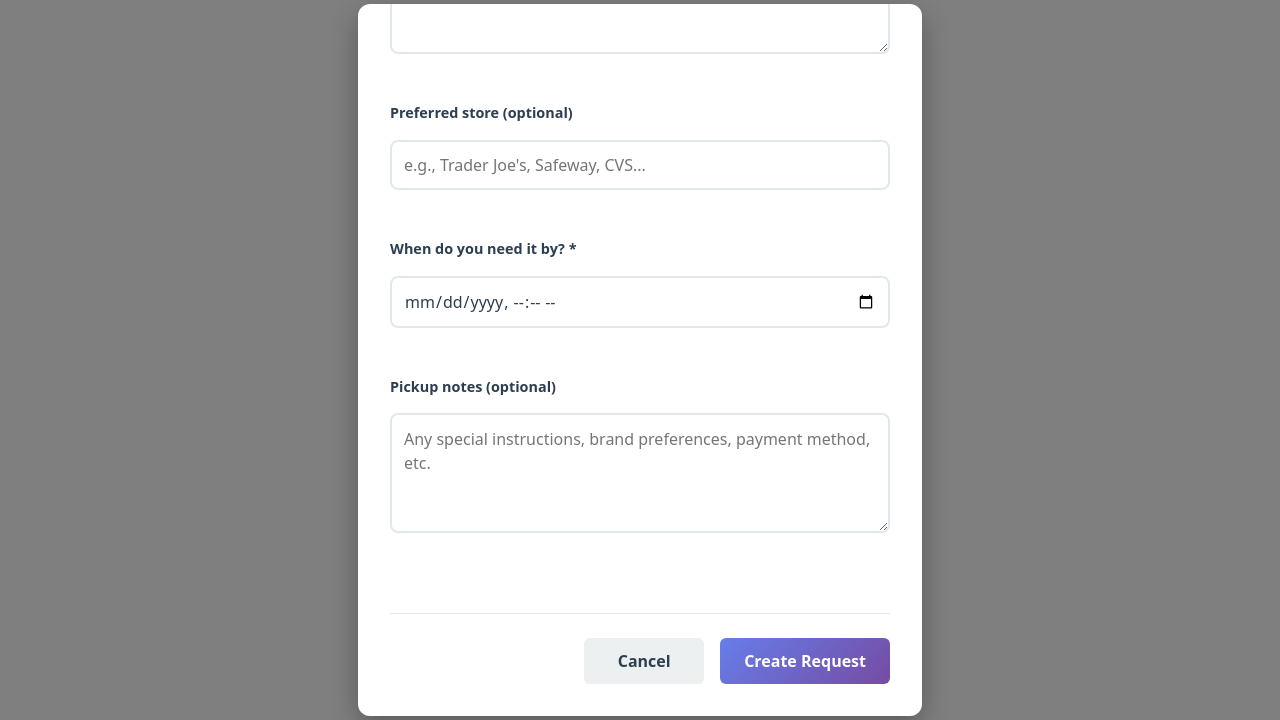
Test: CreateRequestForm › should show validation errors for required fields
(page scrolled)
Click the button "Create Request".
click(805, 661)  # box [720,638,890,684]
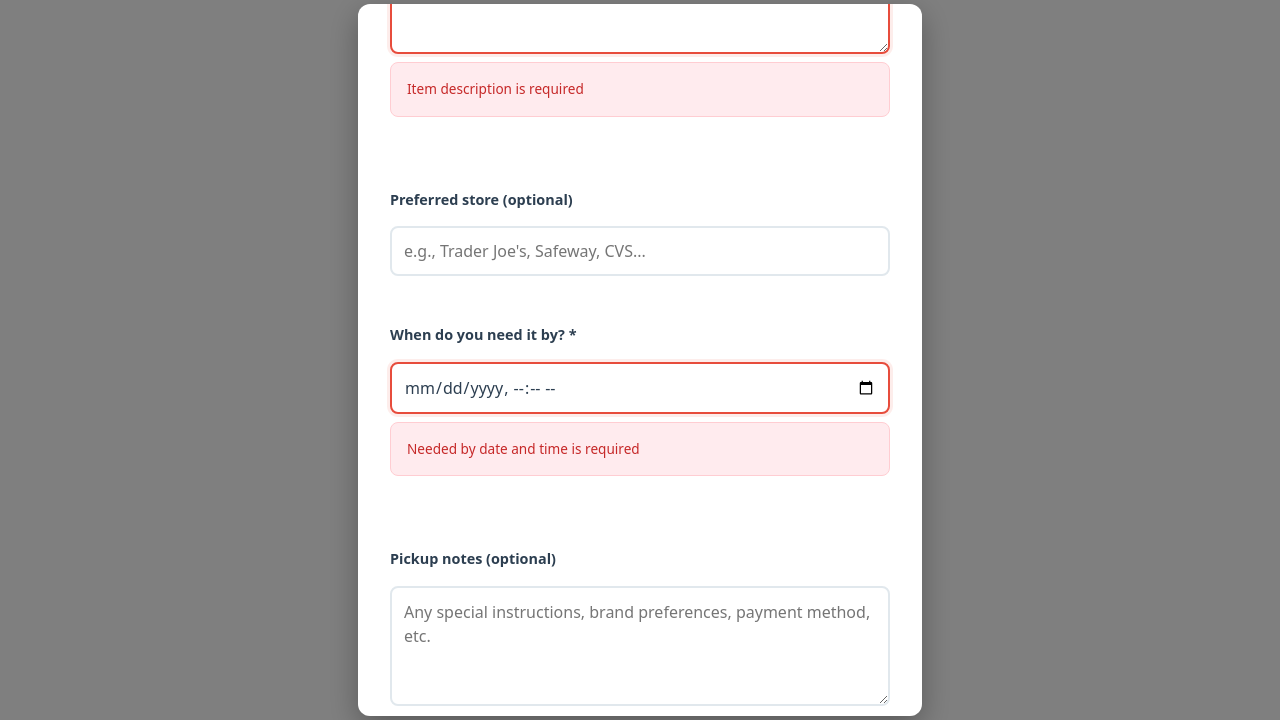
Check: the text "Item description is required" is shown, box [390,62,890,117]
Check: the text "Needed by date and time is required" is shown, box [390,422,890,476]
